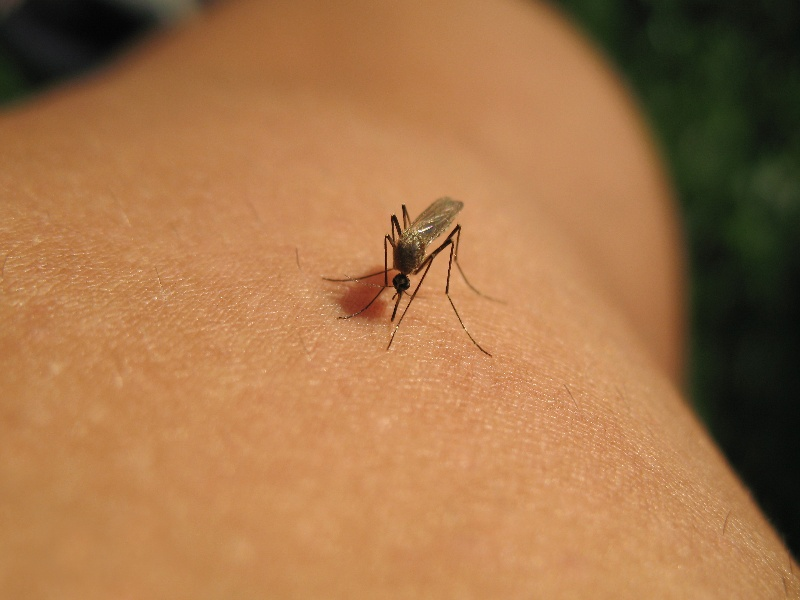dengue_mosquito: (346, 196, 474, 343)
